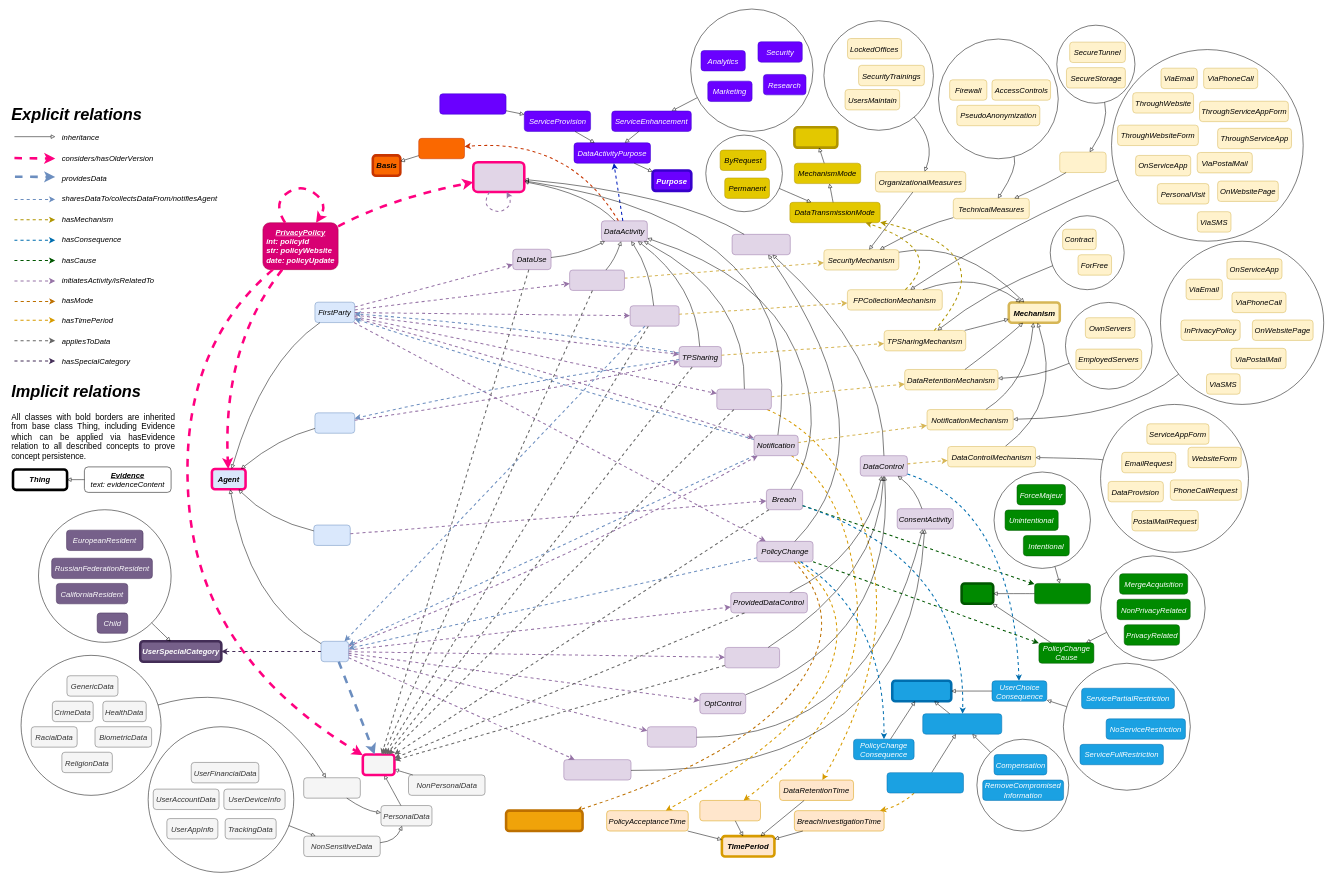
This 1333x881 diagram has some shape labels left out. The shapes that lost their labels are listed below. From the top down, each one's centre as x and y in pixels, then its label:
(x=472, y=103): HealthMonitoring
(x=441, y=148): LegalBasis
(x=815, y=137): Mode
(x=498, y=177): Activity bool: does
(x=1082, y=162): Encryption
(x=761, y=244): ControlActivity
(x=596, y=280): DataProtection
(x=654, y=315): FPCollection
(x=743, y=399): DataRetention
(x=334, y=422): ThirdParty
(x=331, y=535): Criminals
(x=977, y=593): Cause
(x=1062, y=593): BreachCause
(x=335, y=651): User
(x=752, y=657): PrivacyControl
(x=921, y=690): Consequence
(x=672, y=736): GiveConsent
(x=962, y=723): BreachConsequence
(x=378, y=764): Data
(x=597, y=769): WithdrawConsent
(x=924, y=782): BreachInvestigation
(x=331, y=787): SensitiveData
(x=544, y=820): PolicyScopeChange
(x=730, y=810): NotificationTime
